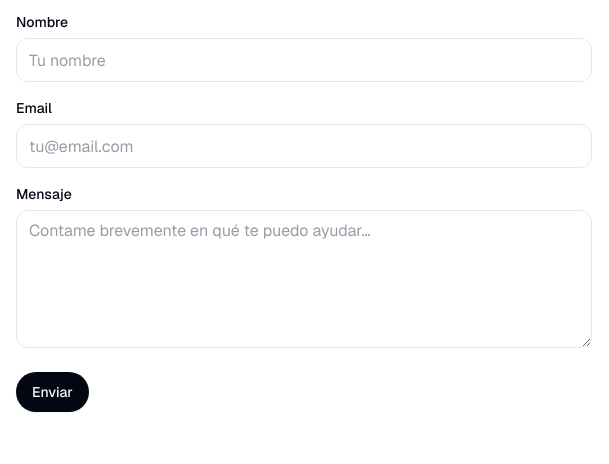
Scenario: ContactForm › envía con éxito y muestra mensaje de confirmación
In the field labelled "Nombre": (304, 60) [16, 38, 592, 82], type "Juan"
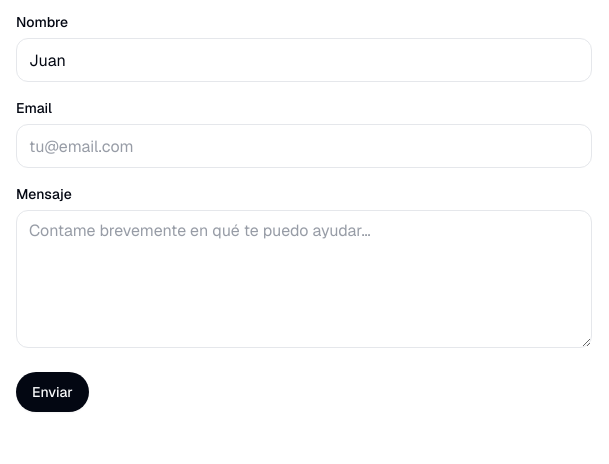
In the field labelled "Email": (304, 146) [16, 124, 592, 168], type "juan@example.com"
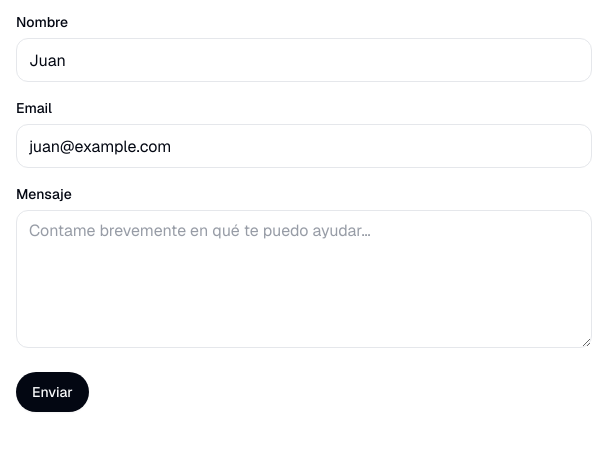
In the text box labelled "Mensaje": (304, 279) [16, 210, 592, 348], type "Este es un mensaje válido de prueba."
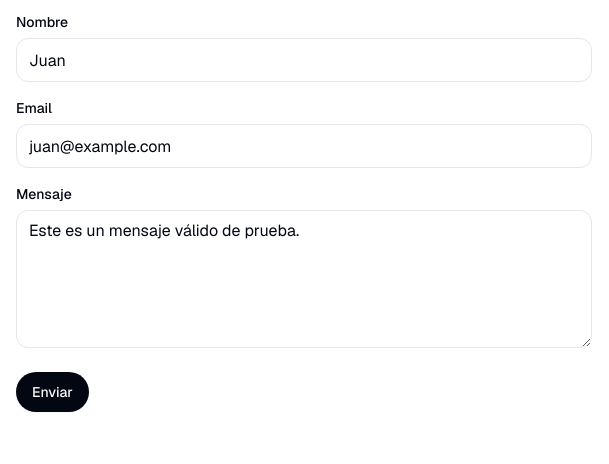
Click the button "Enviar": click(52, 392) [16, 372, 89, 412]
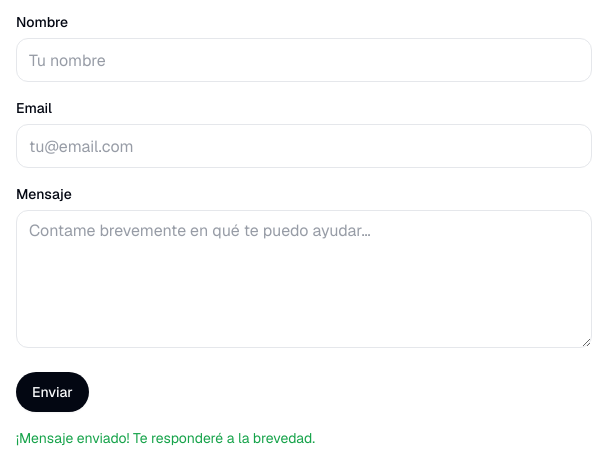
Expected: the text "¡Mensaje enviado! Te responderé a la brevedad." is shown, [16, 429, 315, 447]
